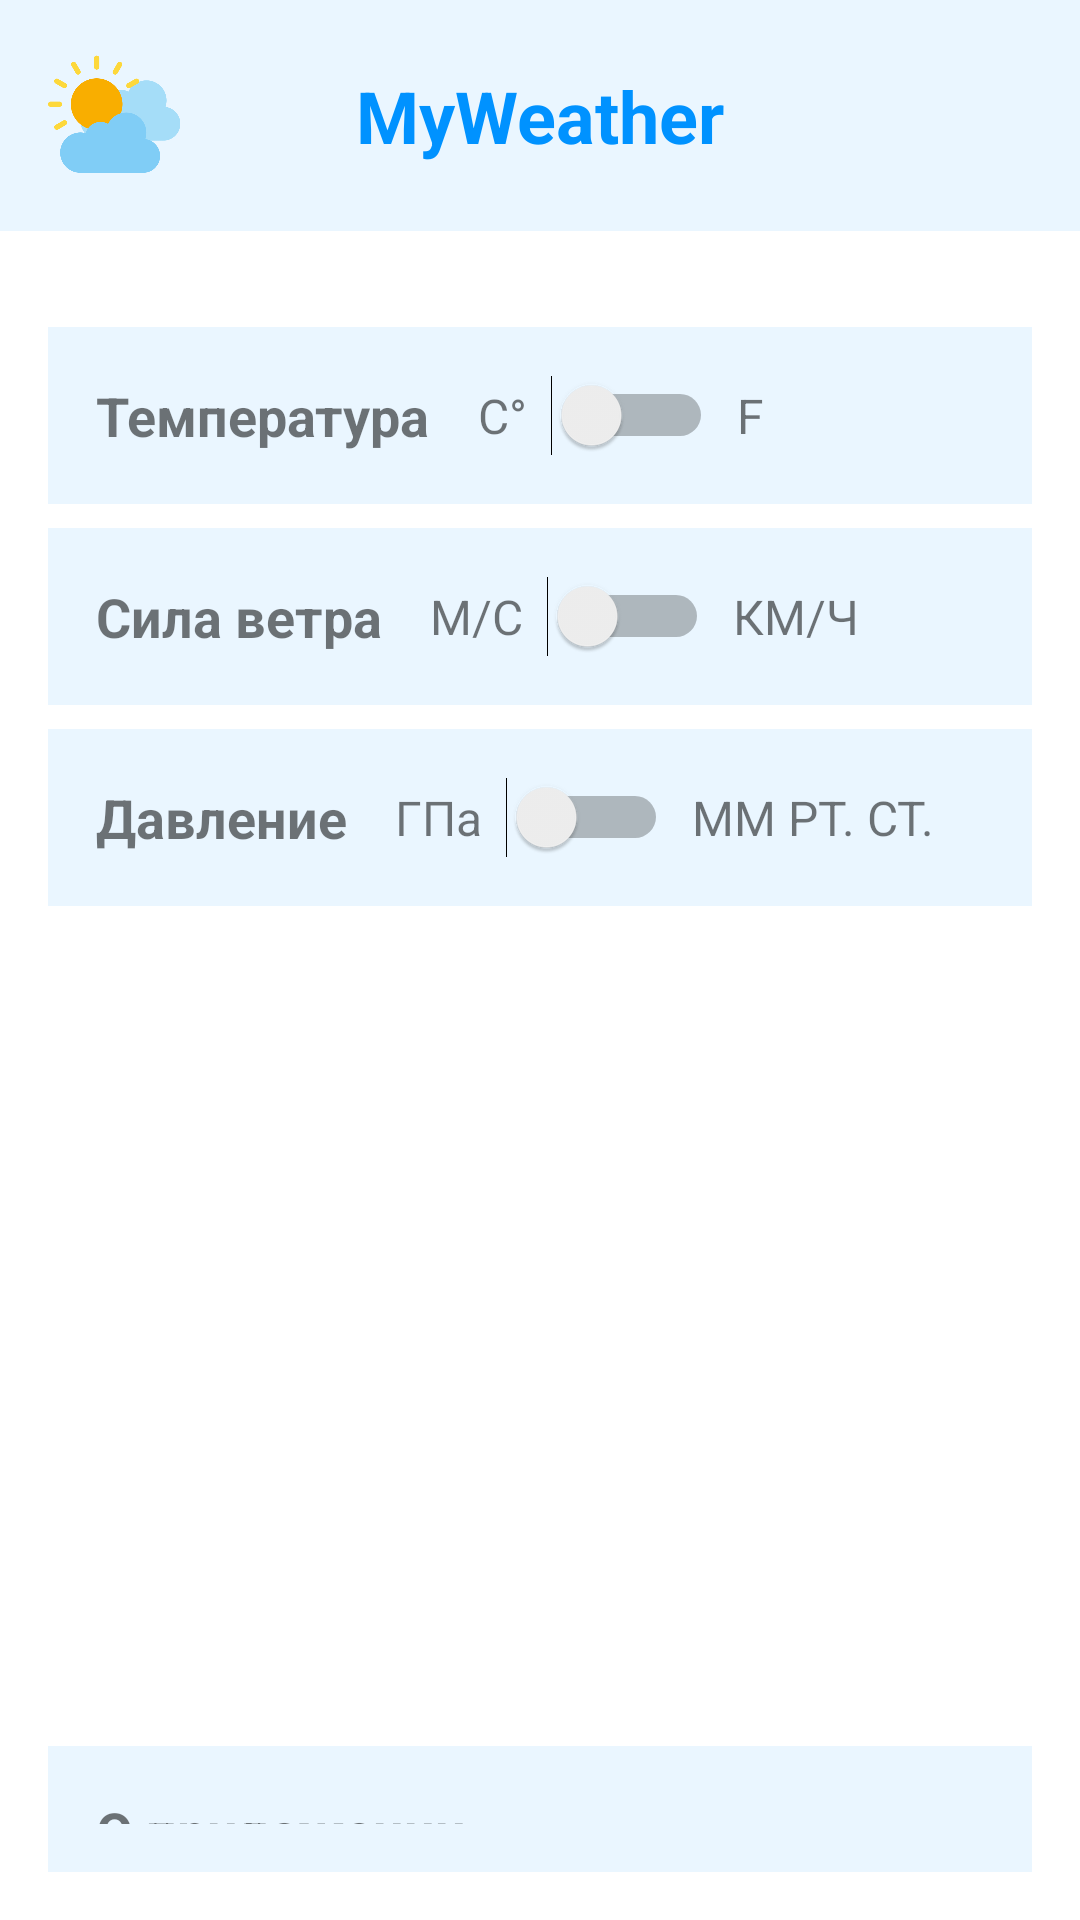

Icon click points for this 1080*1920 phone screenshot, format (x,y):
weather: (114,114)
